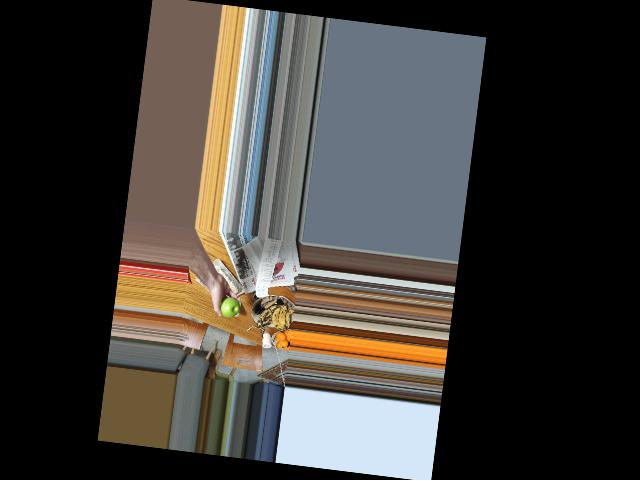apple: (217, 294, 242, 320)
